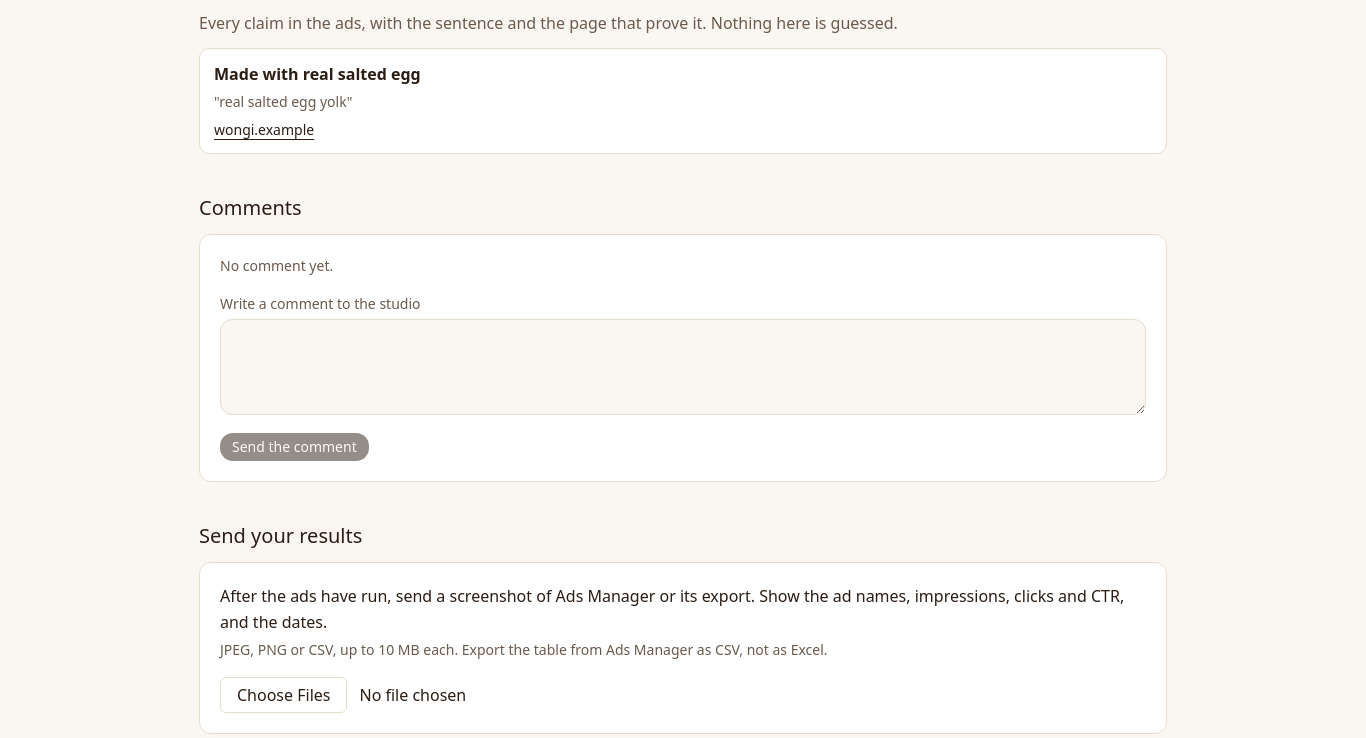
Scenario: A client's pack page › refuses to send and says why when the studio refuses a comment
This screenshot has width=1366, height=738.
(page scrolled)
Type "One more." into the text box labelled "Write a comment to the studio" at [683, 367], box [220,319,1146,415]
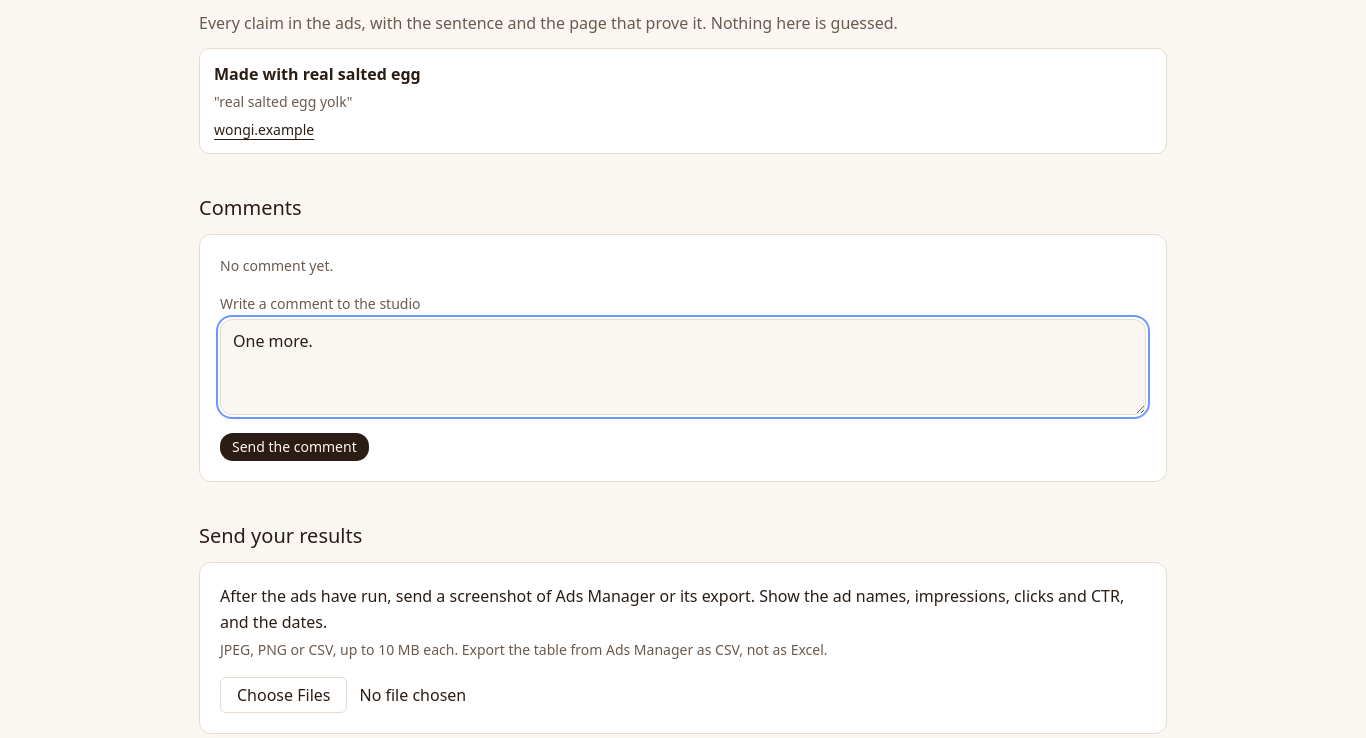
Click the button "Send the comment" at [294, 447], box [220,433,369,461]
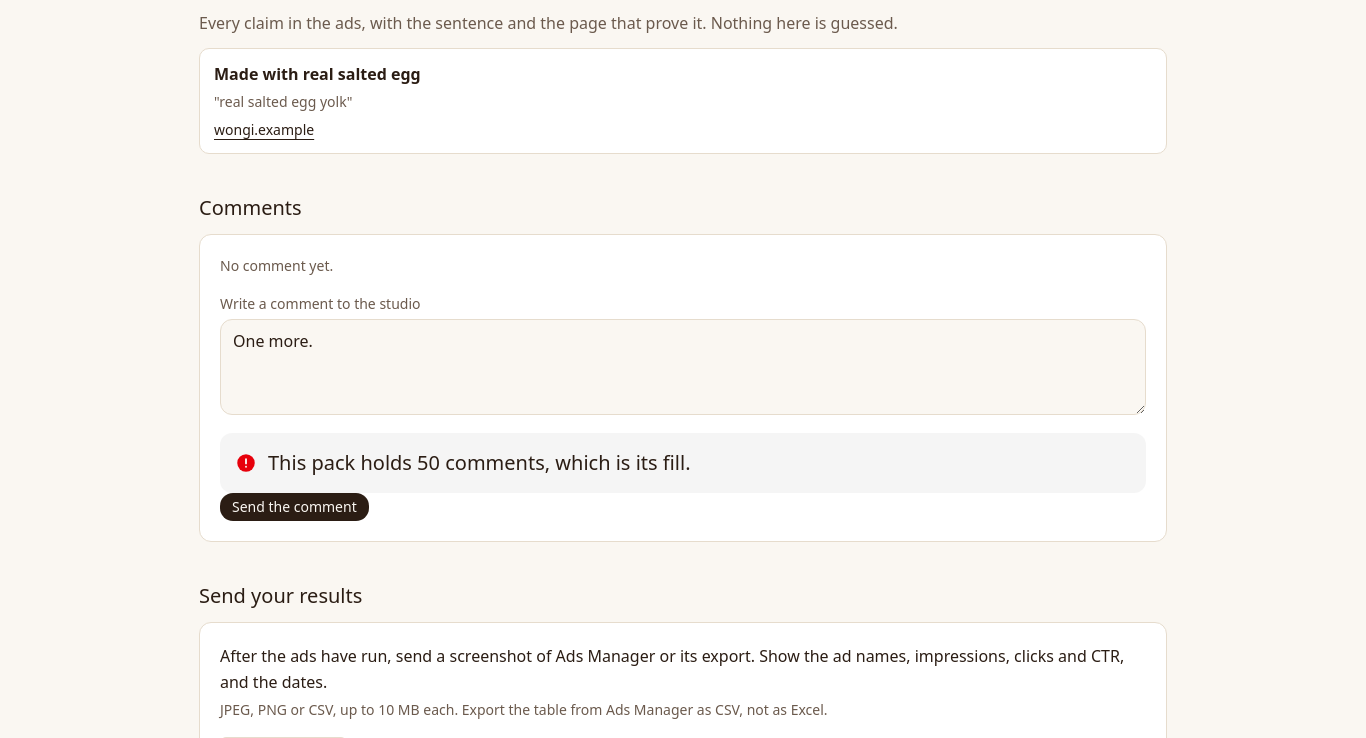
Expected: the text "This pack holds 50 comments, which is its fill." is shown, [268,449,690,476]
